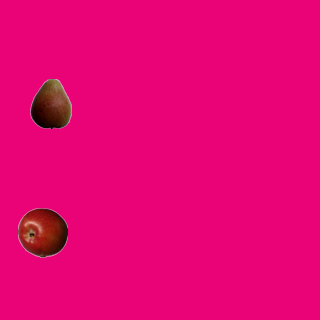Apple Braeburn: (17, 207, 67, 257)
Pear Forelle: (25, 78, 75, 128)
